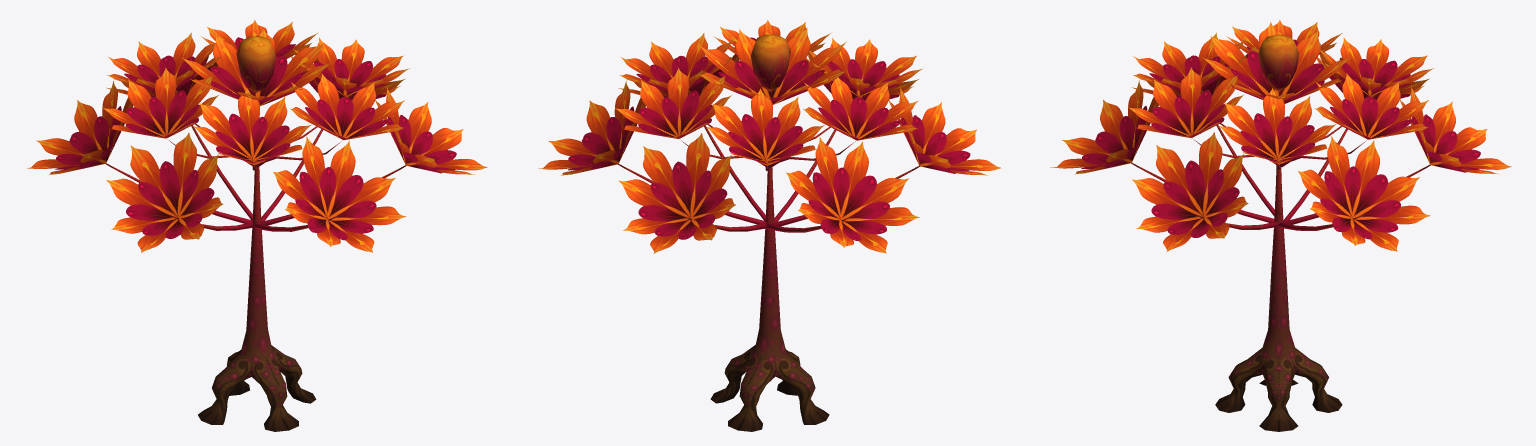
Rendered from Red_Tree_02b.FBX.
3 views of the same model, side by side, from view 1: azimuth 30°, elevation 25°; view 2: azimuth 150°, elevation 25°; view 3: azimuth 270°, elevation 25° (orthographic).
Visible parts, largest first — view 1: Red_Tree_02b; view 2: Red_Tree_02b; view 3: Red_Tree_02b.
Boxes of the visible parts, box(x1,y1,x2,y2) form: Red_Tree_02b: box(27, 20, 487, 431); Red_Tree_02b: box(538, 20, 1001, 431); Red_Tree_02b: box(1050, 20, 1511, 431).
Bounding box in the file's own units: 323 × 304 × 360.
